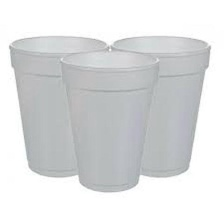paper_cup: (4, 30, 111, 180), (108, 30, 214, 180), (56, 46, 162, 195)
